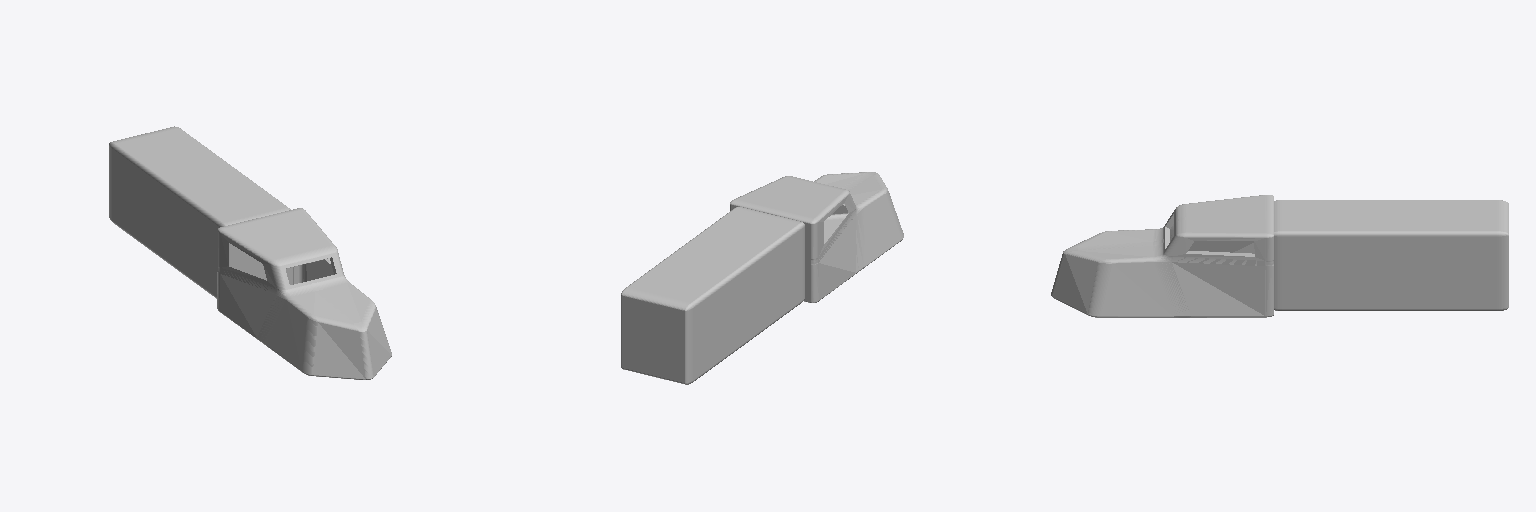
Rendered from Truck.obj.
3 renders of one model, left to right at view 1: azimuth 30°, elevation 25°; view 2: azimuth 150°, elevation 25°; view 3: azimuth 270°, elevation 25°, orthographic.
Visible parts, largest first — view 1: Cube, Cube.001; view 2: Cube.001, Cube; view 3: Cube.001, Cube.
Boxes of the visible parts, box(x1,y1,x2,y2) form: Cube: box(217, 208, 391, 379); Cube.001: box(109, 126, 293, 298); Cube.001: box(621, 207, 804, 384); Cube: box(730, 172, 903, 302); Cube.001: box(1274, 200, 1508, 310); Cube: box(1051, 195, 1273, 317).
Size of the model in its own units: 3.37 by 3.04 by 15.13.